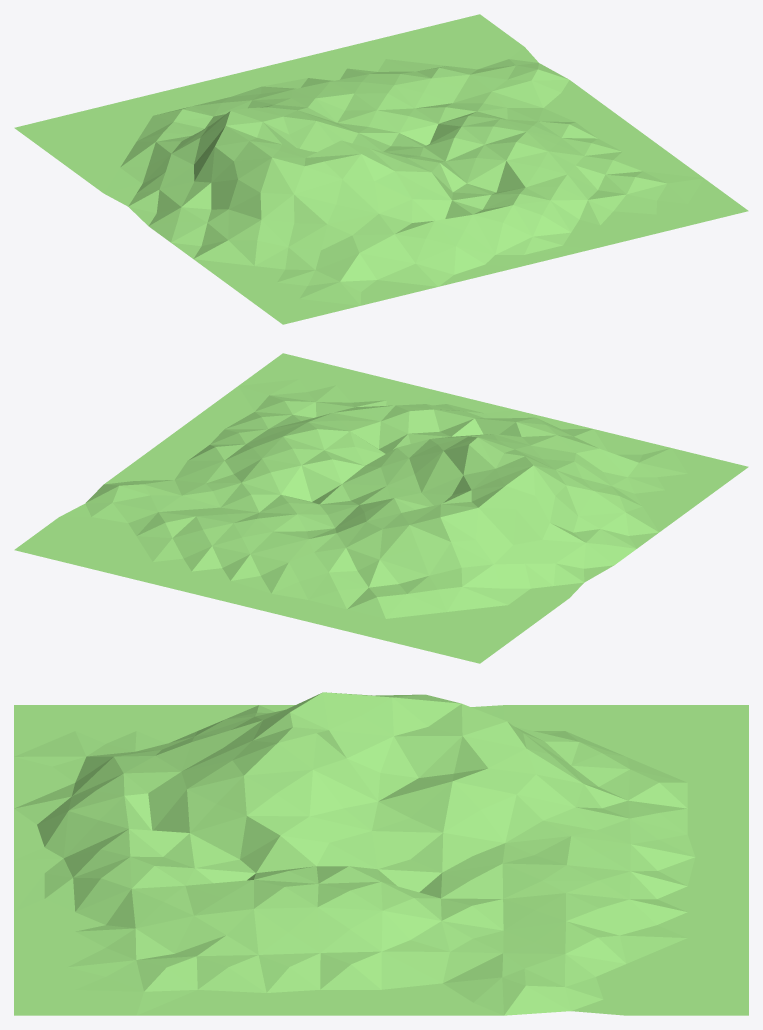
The model's file is treeGroundPlane.fbx.
The picture shows the model from 3 angles, top to bottom: view 1: azimuth 30°, elevation 25°; view 2: azimuth 150°, elevation 25°; view 3: azimuth 270°, elevation 25°; orthographic projection. The views are drawn at different scales.
Visible parts, largest first — view 1: Plane; view 2: Plane; view 3: Plane.
Boxes of the visible parts, left/top/right/bottom form: Plane: left=14, top=14, right=748, bottom=324; Plane: left=14, top=353, right=748, bottom=663; Plane: left=14, top=692, right=748, bottom=1015.
Size of the model in its own units: 3750 by 477 by 3750.
